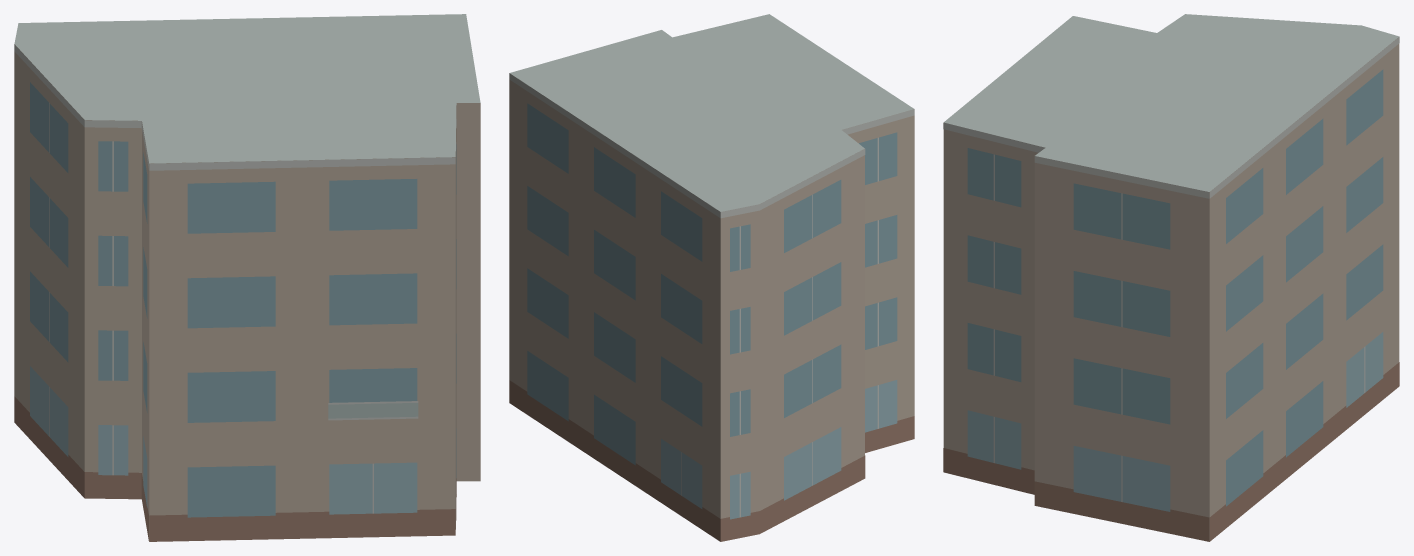
File: survey-upis-32880503.glb
3 renders of one model, left to right at view 1: azimuth 30°, elevation 25°; view 2: azimuth 150°, elevation 25°; view 3: azimuth 270°, elevation 25°, orthographic. The views are drawn at different scales.
Visible parts, largest first — view 1: survey-upis-32880503.tmp; view 2: survey-upis-32880503.tmp; view 3: survey-upis-32880503.tmp.
Part boxes in pixels (left/top/right/bottom): survey-upis-32880503.tmp: left=14, top=14, right=480, bottom=541; survey-upis-32880503.tmp: left=509, top=14, right=914, bottom=541; survey-upis-32880503.tmp: left=943, top=14, right=1399, bottom=541.
Size of the model in its own units: 13.77 by 12.6 by 14.9.
